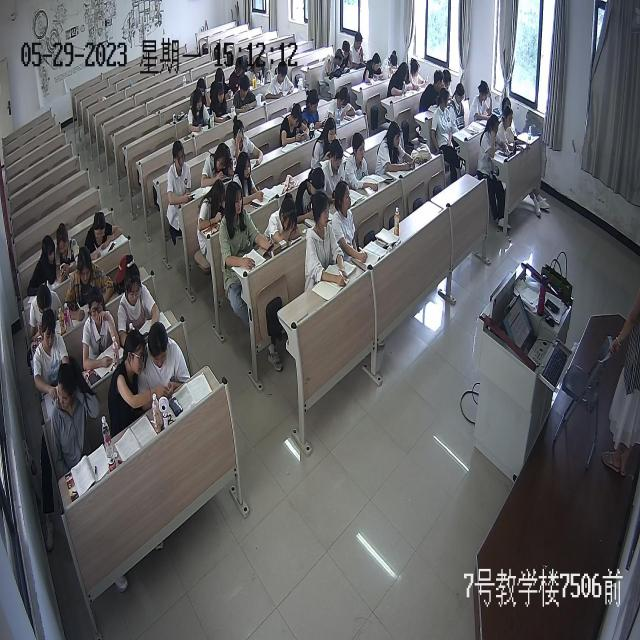distracted: (48, 364, 102, 473), (107, 330, 159, 420), (82, 289, 120, 371), (28, 235, 58, 293), (432, 88, 455, 152), (422, 70, 448, 110), (321, 49, 343, 76), (340, 41, 354, 72), (442, 66, 454, 102)
focused: (116, 260, 162, 344), (308, 191, 347, 286), (68, 248, 114, 320), (35, 312, 69, 398), (332, 182, 368, 262), (345, 132, 380, 195), (232, 150, 266, 209), (85, 210, 123, 261), (296, 165, 330, 221), (30, 284, 64, 339), (310, 116, 343, 172), (198, 179, 228, 236), (230, 119, 263, 169), (320, 140, 348, 198), (497, 106, 523, 154), (265, 61, 294, 100), (233, 74, 259, 115), (210, 82, 233, 124), (388, 60, 412, 98), (468, 82, 492, 120), (450, 82, 467, 130), (363, 53, 385, 85), (350, 29, 366, 66), (230, 57, 247, 91), (381, 50, 402, 77), (249, 58, 267, 88)
sleep: (267, 194, 304, 248)
using_phone: (219, 182, 276, 268), (141, 325, 190, 408), (378, 120, 417, 174), (166, 140, 196, 205), (480, 114, 511, 166), (54, 223, 82, 280), (201, 143, 234, 189), (279, 104, 311, 148), (302, 89, 328, 137), (328, 88, 358, 127), (189, 90, 214, 134), (213, 67, 234, 103), (408, 59, 429, 90)
